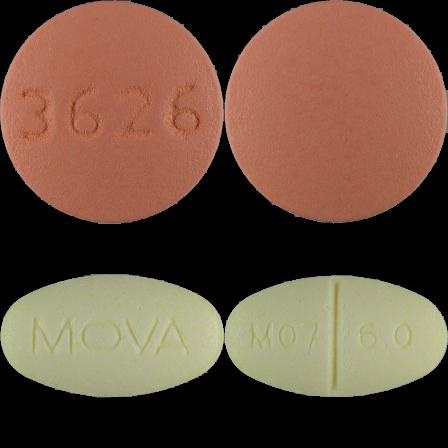67253-391: (0, 0, 224, 224)
